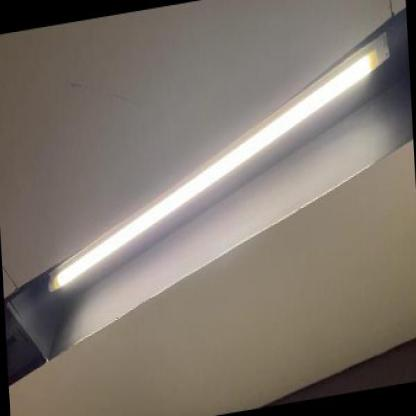light_on: (34, 18, 405, 320)
